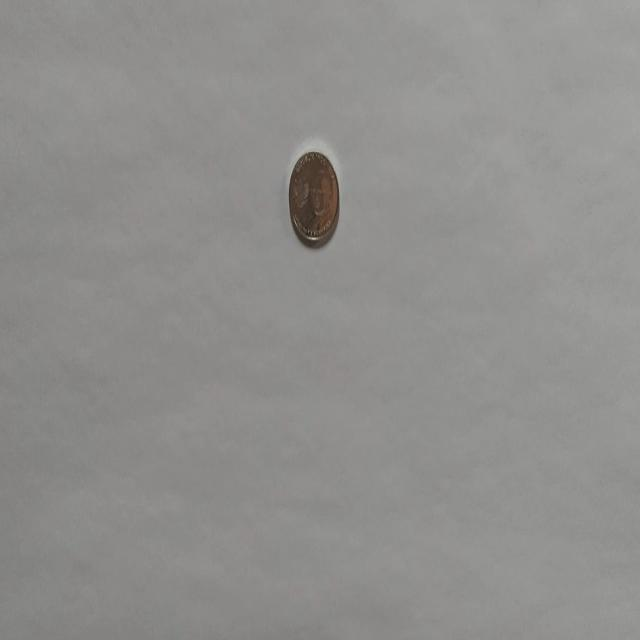lima ratus rupiah: (288, 148, 340, 246)
